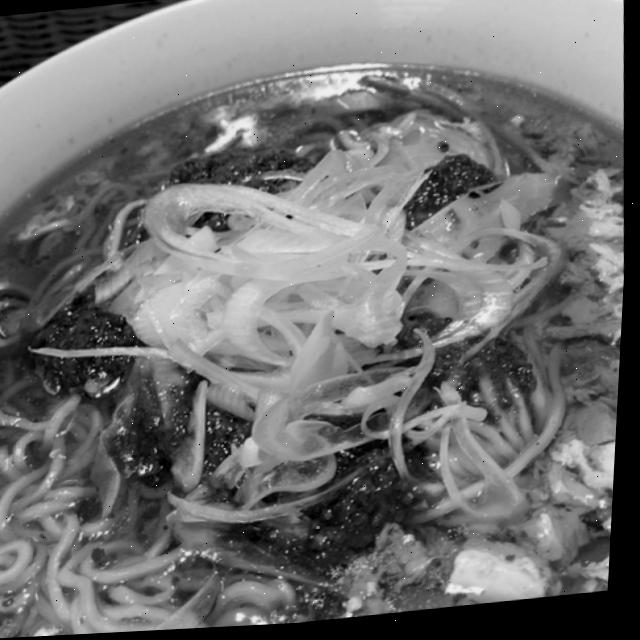面条主食: (0, 10, 639, 633)
